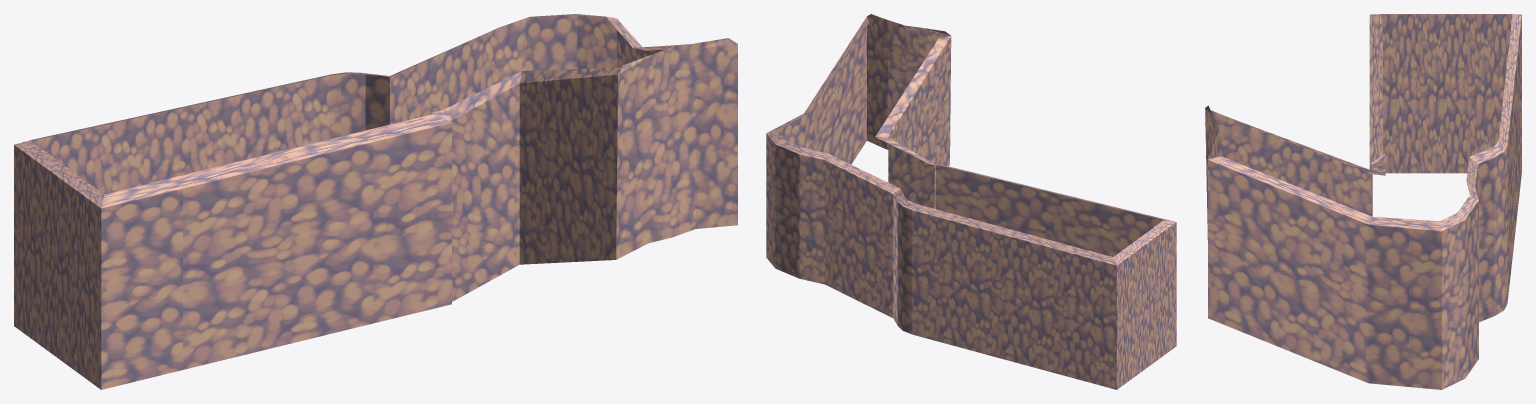
Rendered from Terrain5_side.fbx.
The picture shows the model from 3 angles, left to right: view 1: azimuth 30°, elevation 25°; view 2: azimuth 150°, elevation 25°; view 3: azimuth 270°, elevation 25°; orthographic projection. The views are drawn at different scales.
Visible parts, largest first — view 1: Terrain5_side; view 2: Terrain5_side; view 3: Terrain5_side.
Part boxes in pixels (x1,y1,x2,y2): Terrain5_side: (14, 14, 737, 389); Terrain5_side: (766, 14, 1176, 389); Terrain5_side: (1205, 14, 1521, 389).
Size of the model in its own units: 13849 by 6829 by 7800.
Materials: 1 (1 with a texture image).
